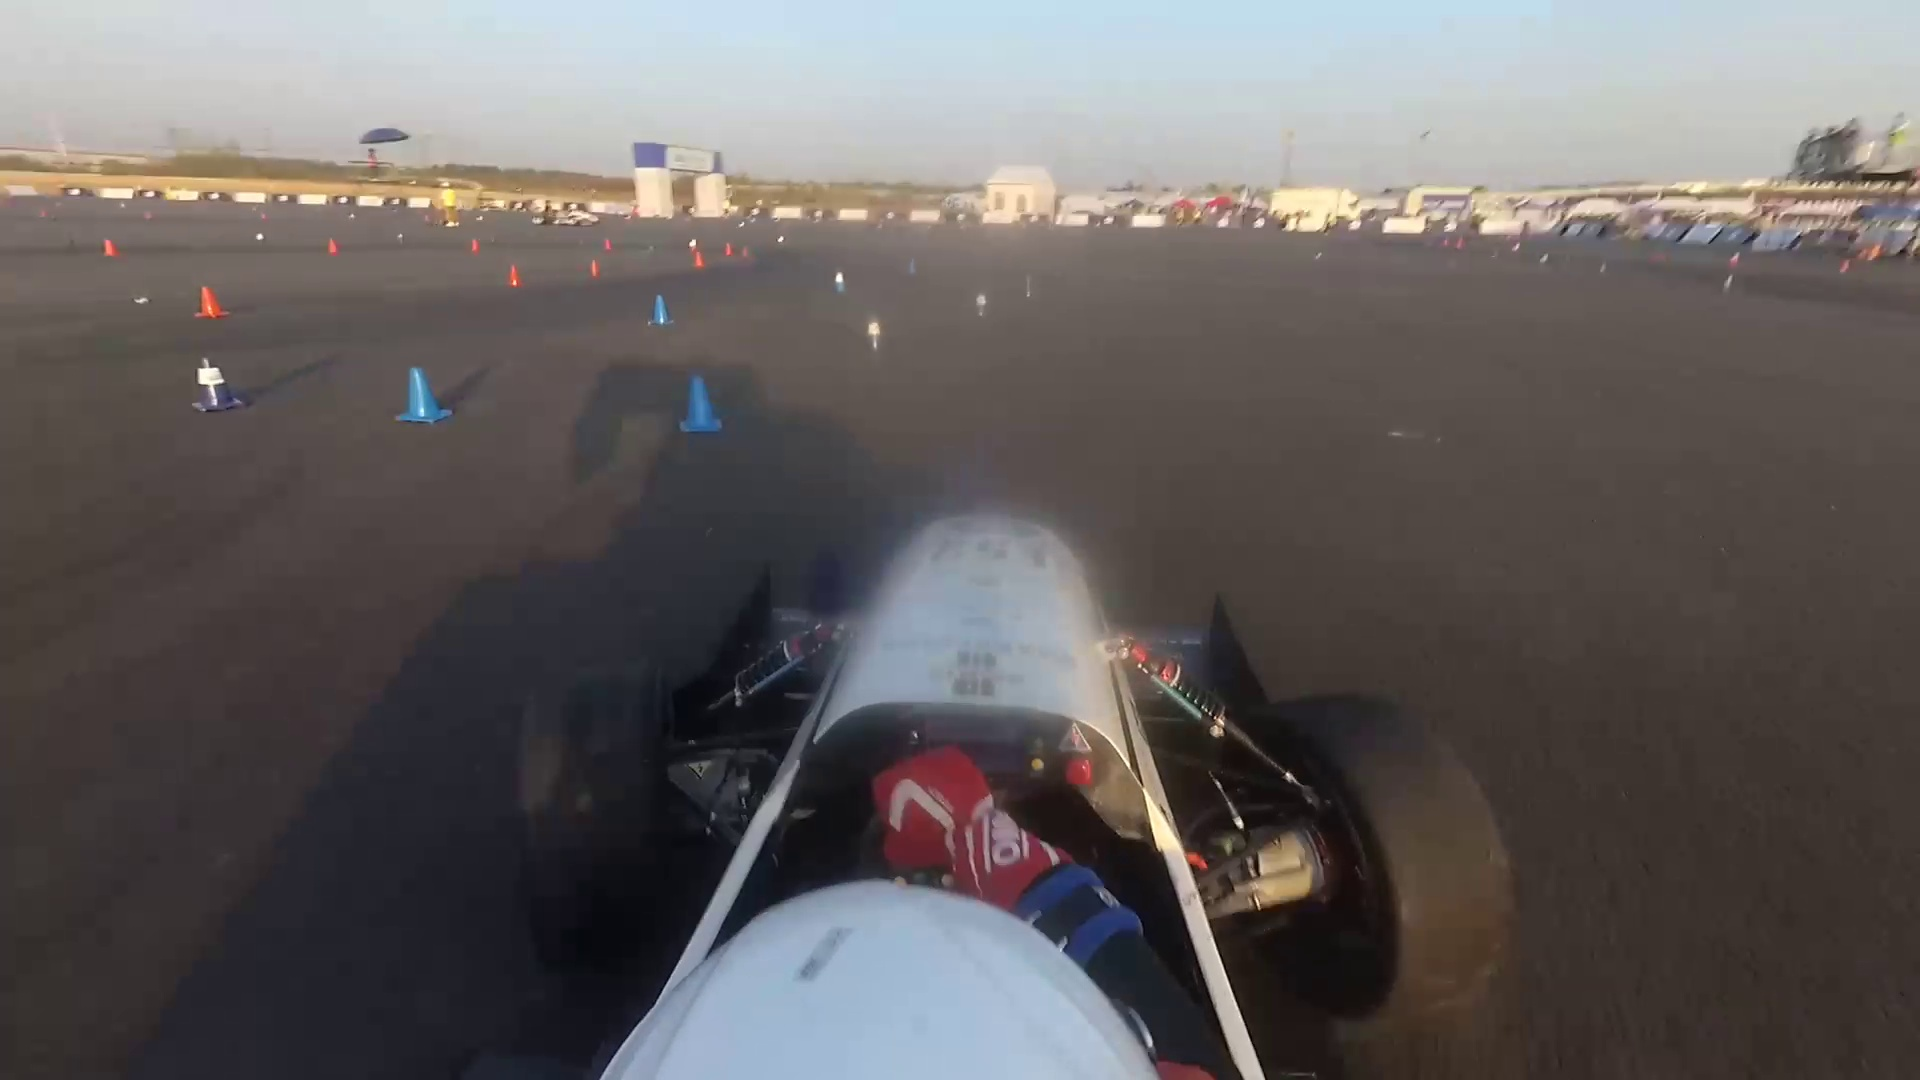blue_cone: (665, 360, 742, 447), (193, 353, 261, 419), (388, 363, 452, 433), (844, 322, 887, 369), (637, 295, 684, 330), (971, 280, 1001, 326), (825, 262, 858, 303), (1021, 266, 1044, 309), (899, 255, 927, 290), (1539, 244, 1560, 273), (1509, 237, 1530, 261)
red_cone: (189, 277, 229, 322), (582, 251, 608, 290), (505, 256, 530, 295), (99, 229, 123, 265), (1726, 244, 1753, 276), (603, 229, 626, 258), (688, 243, 708, 274), (464, 233, 487, 261), (323, 229, 340, 264), (740, 239, 757, 270), (1840, 255, 1855, 277), (723, 235, 736, 261), (1456, 231, 1469, 256)
